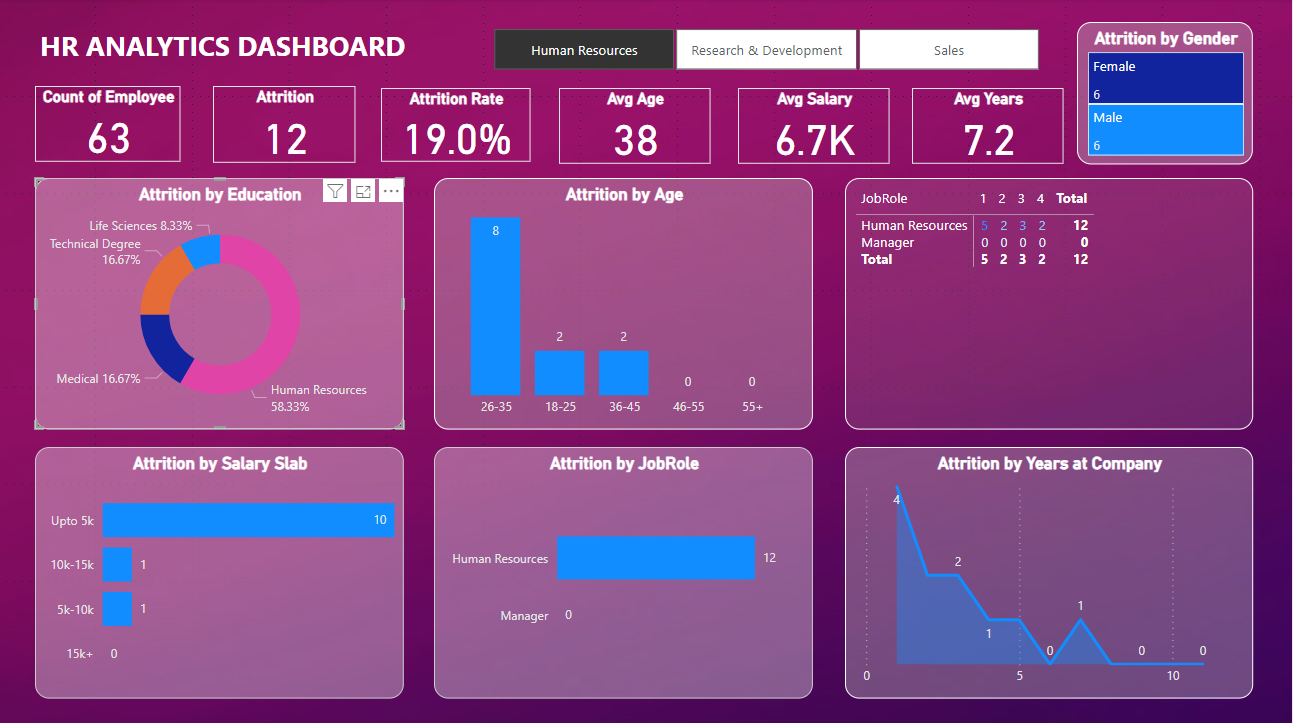

Layout of this report page (visuals, bound fields, positions):
{"tool":"powerbi","page":{"name":"Page 1","canvas":[1280,720],"ordinal":0},"visuals":[{"type":"card","title":"Count of Employee","fields":{"Values":["CountNonNull(HR_Analytics.EmpID)"]},"box":[37,86.6,144,74.9],"z":0},{"type":"card","title":"Attrition","fields":{"Values":["Sum(HR_Analytics.AttritionCount)"]},"box":[213,86.6,141,75.9],"z":1000},{"type":"card","title":"Avg Age","fields":{"Values":["Avg(HR_Analytics.Age)"]},"box":[555.4,88.5,149.8,74.9],"z":2000},{"type":"card","title":"Attrition Rate","fields":{"Values":["HR_Analytics.AttritionRate"]},"box":[379.3,88.5,147.8,72.9],"z":3000},{"type":"card","title":"Avg Years","fields":{"Values":["Avg(HR_Analytics.YearsAtCompany)"]},"box":[904.6,88.5,149.8,74.9],"z":4000},{"type":"card","title":"Avg Salary","fields":{"Values":["Avg(HR_Analytics.MonthlyIncome)"]},"box":[732.4,88.5,149.8,74.9],"z":5000},{"type":"donutChart","title":"Attrition by Education","fields":{"Category":["HR_Analytics.EducationField"],"Y":["Sum(HR_Analytics.AttritionCount)"]},"box":[37,177,364.7,249],"z":6000},{"type":"columnChart","title":"Attrition by Age","fields":{"Y":["Sum(HR_Analytics.AttritionCount)"],"Category":["HR_Analytics.AgeGroup"]},"box":[431.9,177,375.4,249],"z":7000},{"type":"pivotTable","fields":{"Rows":["HR_Analytics.JobRole"],"Columns":["HR_Analytics.JobSatisfaction"],"Values":["Sum(HR_Analytics.AttritionCount)"]},"box":[838.4,177,403.6,249],"z":8000},{"type":"barChart","title":"Attrition by Salary Slab","fields":{"Category":["HR_Analytics.SalarySlab"],"Y":["Sum(HR_Analytics.AttritionCount)"]},"box":[37,443.5,364.7,249],"z":9000},{"type":"barChart","title":"Attrition by JobRole","fields":{"Y":["Sum(HR_Analytics.AttritionCount)"],"Category":["HR_Analytics.JobRole"]},"box":[431.9,443.5,375.4,249],"z":10000},{"type":"areaChart","title":"Attrition by Years at Company","fields":{"Category":["HR_Analytics.YearsAtCompany"],"Y":["Sum(HR_Analytics.AttritionCount)"]},"box":[838.4,443.5,403.6,249],"z":11000},{"type":"treemap","title":"Attrition by Gender","fields":{"Group":["HR_Analytics.Gender"],"Values":["Sum(HR_Analytics.AttritionCount)"]},"box":[1068,22.4,174.1,141],"z":12000},{"type":"slicer","fields":{"Values":["HR_Analytics.Department"]},"box":[464.9,22.4,589.4,54.5],"z":12001},{"type":"textbox","box":[37,22.4,403.6,54.5],"z":12002}]}

Visuals, with their boxes in screenshot pixels (x1, y1, x2, y2), scaled from the page's 1280x720 canvas onto the 1293x723 screenshot:
"Count of Employee" card: crop(37, 87, 183, 162)
"Attrition" card: crop(215, 87, 358, 163)
"Avg Age" card: crop(561, 89, 712, 164)
"Attrition Rate" card: crop(383, 89, 532, 162)
"Avg Years" card: crop(914, 89, 1065, 164)
"Avg Salary" card: crop(740, 89, 891, 164)
"Attrition by Education" donutChart: crop(37, 178, 406, 428)
"Attrition by Age" columnChart: crop(436, 178, 815, 428)
pivotTable - HR_Analytics.JobRole x HR_Analytics.JobSatisfaction: crop(847, 178, 1255, 428)
"Attrition by Salary Slab" barChart: crop(37, 445, 406, 695)
"Attrition by JobRole" barChart: crop(436, 445, 815, 695)
"Attrition by Years at Company" areaChart: crop(847, 445, 1255, 695)
"Attrition by Gender" treemap: crop(1079, 22, 1255, 164)
slicer - HR_Analytics.Department: crop(470, 22, 1065, 77)
textbox: crop(37, 22, 445, 77)
